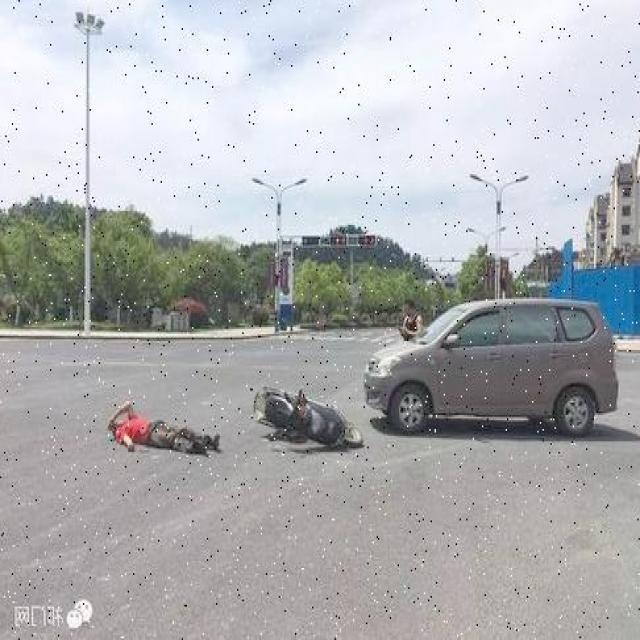fall: (98, 398, 222, 453)
